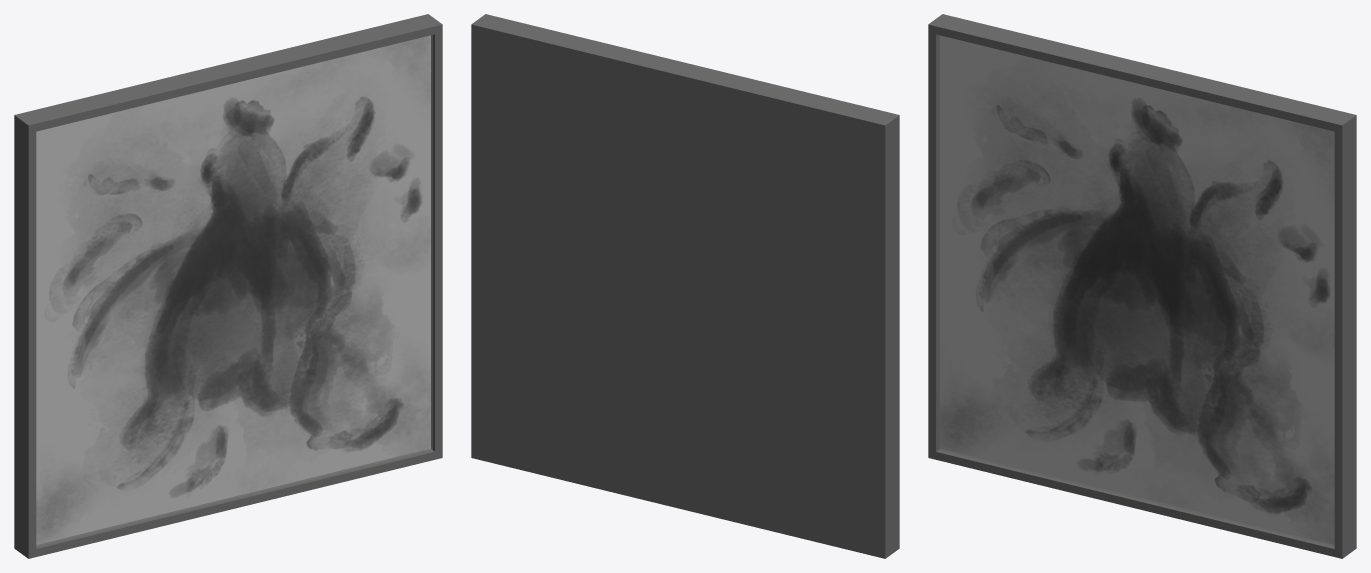
The model's file is Assets.fbx_Gem_lde_Rorschachtest.fbx.
The picture shows the model from 3 angles, left to right: view 1: azimuth 30°, elevation 25°; view 2: azimuth 150°, elevation 25°; view 3: azimuth 330°, elevation 25°; orthographic projection.
Visible parts, largest first — view 1: Bild Rorschachtest, Motiv.001; view 2: Bild Rorschachtest; view 3: Bild Rorschachtest, Motiv.001.
Part boxes in pixels (bbox=[...]): Bild Rorschachtest: bbox=[14, 14, 442, 558]; Motiv.001: bbox=[36, 35, 430, 544]; Bild Rorschachtest: bbox=[471, 14, 899, 558]; Bild Rorschachtest: bbox=[928, 14, 1356, 558]; Motiv.001: bbox=[940, 35, 1334, 544].
Bounding box in the file's own units: 50 × 50 × 3.
